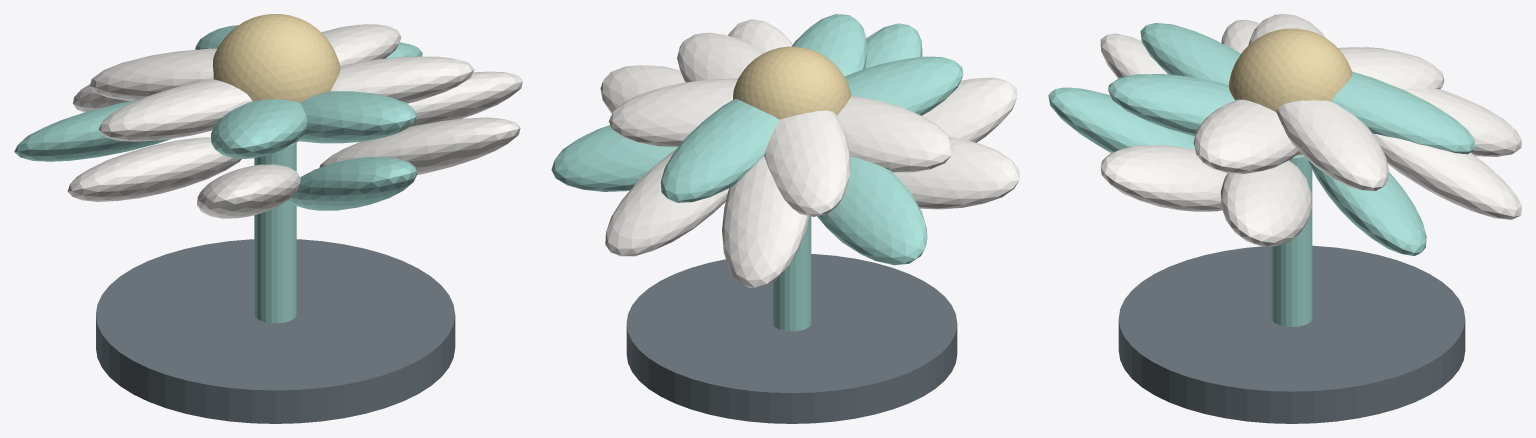
The model's file is porcelain-lotus.glb.
3 renders of one model, left to right at view 1: azimuth 30°, elevation 25°; view 2: azimuth 150°, elevation 25°; view 3: azimuth 270°, elevation 25°, orthographic. The views are drawn at different scales.
Parts seen in each view (by area): view 1: porcelain-lotus-18, porcelain-lotus-16, porcelain-lotus-7, porcelain-lotus-1, porcelain-lotus-14, porcelain-lotus-17, porcelain-lotus-0, porcelain-lotus-9, porcelain-lotus-10, porcelain-lotus-15, porcelain-lotus-13, porcelain-lotus-8 (+5 smaller); view 2: porcelain-lotus-18, porcelain-lotus-5, porcelain-lotus-6, porcelain-lotus-12, porcelain-lotus-13, porcelain-lotus-16, porcelain-lotus-14, porcelain-lotus-4, porcelain-lotus-11, porcelain-lotus-7, porcelain-lotus-3, porcelain-lotus-15 (+7 smaller); view 3: porcelain-lotus-18, porcelain-lotus-16, porcelain-lotus-11, porcelain-lotus-1, porcelain-lotus-4, porcelain-lotus-2, porcelain-lotus-12, porcelain-lotus-10, porcelain-lotus-9, porcelain-lotus-0, porcelain-lotus-3, porcelain-lotus-17 (+6 smaller).
Part boxes in pixels (<box>): porcelain-lotus-18: <box>96,239,455,423</box>; porcelain-lotus-16: <box>213,14,340,142</box>; porcelain-lotus-7: <box>67,137,241,201</box>; porcelain-lotus-1: <box>319,117,520,174</box>; porcelain-lotus-14: <box>98,79,252,141</box>; porcelain-lotus-17: <box>254,142,296,323</box>; porcelain-lotus-0: <box>288,157,417,210</box>; porcelain-lotus-9: <box>297,91,416,143</box>; porcelain-lotus-10: <box>331,56,474,103</box>; porcelain-lotus-15: <box>211,99,307,158</box>; porcelain-lotus-13: <box>90,48,216,101</box>; porcelain-lotus-8: <box>197,164,300,218</box>; porcelain-lotus-18: <box>626,254,957,423</box>; porcelain-lotus-5: <box>722,156,809,287</box>; porcelain-lotus-6: <box>817,156,927,265</box>; porcelain-lotus-12: <box>660,99,779,202</box>; porcelain-lotus-13: <box>764,110,850,216</box>; porcelain-lotus-16: <box>733,46,851,119</box>; porcelain-lotus-14: <box>837,96,953,172</box>; porcelain-lotus-4: <box>605,148,729,256</box>; porcelain-lotus-11: <box>609,78,737,147</box>; porcelain-lotus-7: <box>893,137,1019,209</box>; porcelain-lotus-3: <box>551,125,677,191</box>; porcelain-lotus-15: <box>844,56,963,115</box>; porcelain-lotus-18: <box>1118,245,1465,423</box>; porcelain-lotus-16: <box>1228,28,1352,155</box>; porcelain-lotus-11: <box>1276,100,1389,190</box>; porcelain-lotus-1: <box>1100,145,1227,211</box>; porcelain-lotus-4: <box>1373,133,1521,219</box>; porcelain-lotus-2: <box>1220,160,1311,246</box>; porcelain-lotus-12: <box>1331,71,1475,154</box>; porcelain-lotus-10: <box>1193,99,1299,173</box>; porcelain-lotus-9: <box>1108,74,1234,136</box>; porcelain-lotus-0: <box>1048,87,1194,152</box>; porcelain-lotus-3: <box>1308,160,1426,255</box>; porcelain-lotus-17: <box>1271,154,1312,326</box>.
Size of the model in its own units: 1.97 by 1.37 by 1.86.
